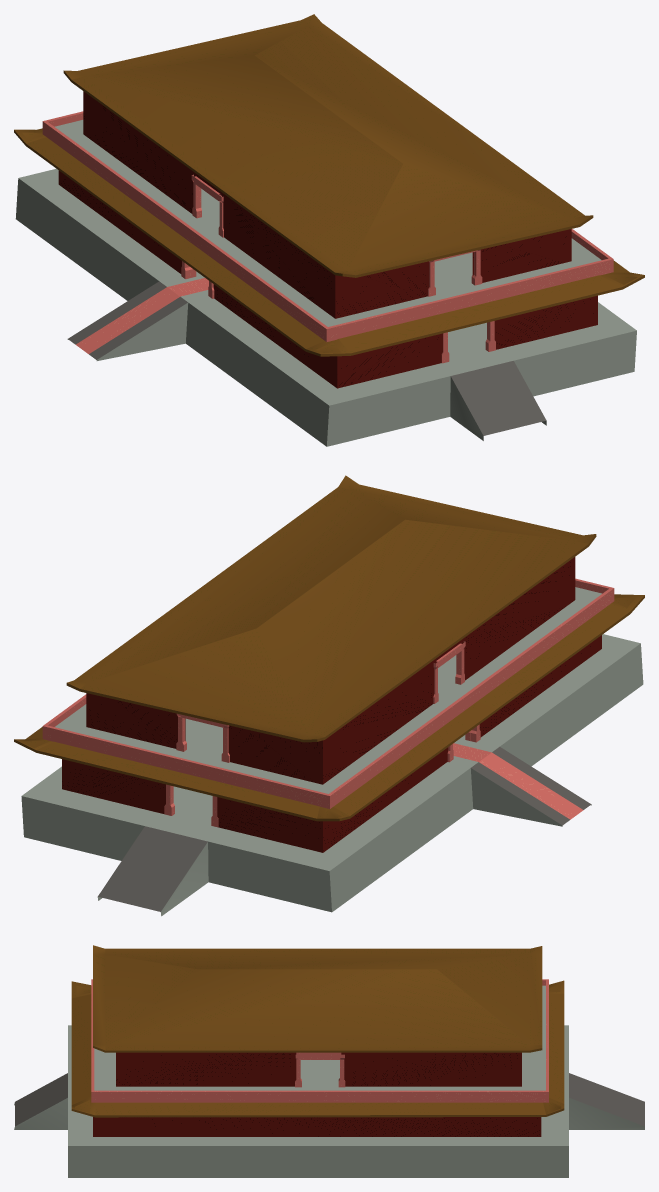
Rendered from BGN_CHINESE TEMPLE.fbx.
3 views of the same model, one above another, from view 1: azimuth 30°, elevation 25°; view 2: azimuth 150°, elevation 25°; view 3: azimuth 270°, elevation 25° (orthographic). The views are drawn at different scales.
Parts seen in each view (by area): view 1: BGN_CHINESE_TEMPLE; view 2: BGN_CHINESE_TEMPLE; view 3: BGN_CHINESE_TEMPLE.
Boxes of the visible parts, x1,y1,x2,y2 form: BGN_CHINESE_TEMPLE: [14, 14, 644, 446]; BGN_CHINESE_TEMPLE: [14, 475, 644, 916]; BGN_CHINESE_TEMPLE: [14, 945, 644, 1177].
Bounding box in the file's own units: 3624 × 1567 × 6000.
